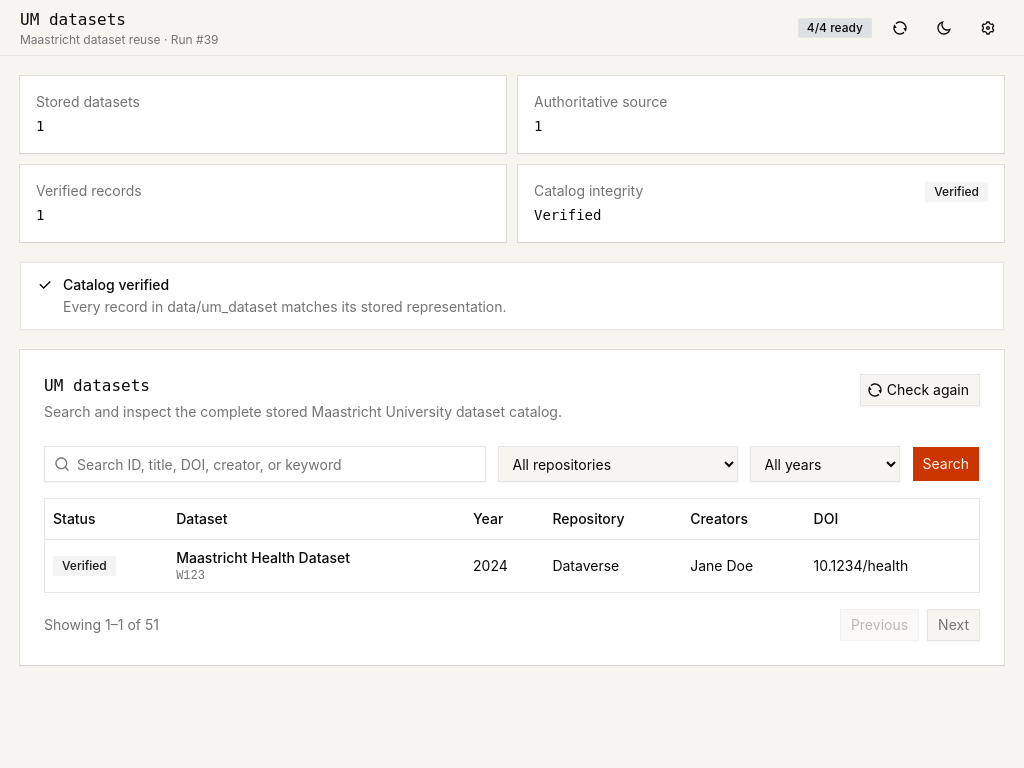
App routed workflow › browses the verified UM dataset catalog and opens raw details
Expected: the text "Catalog verified" is shown, [63,276,169,293]
Expected: the text "Showing 1–1 of 51" is shown, [44,614,159,634]
What coordinates should you click on to do the following:
click the button "Maastricht Health Dataset W123"
I would click on:
 (317, 566)
Its box is [176,548,457,584].
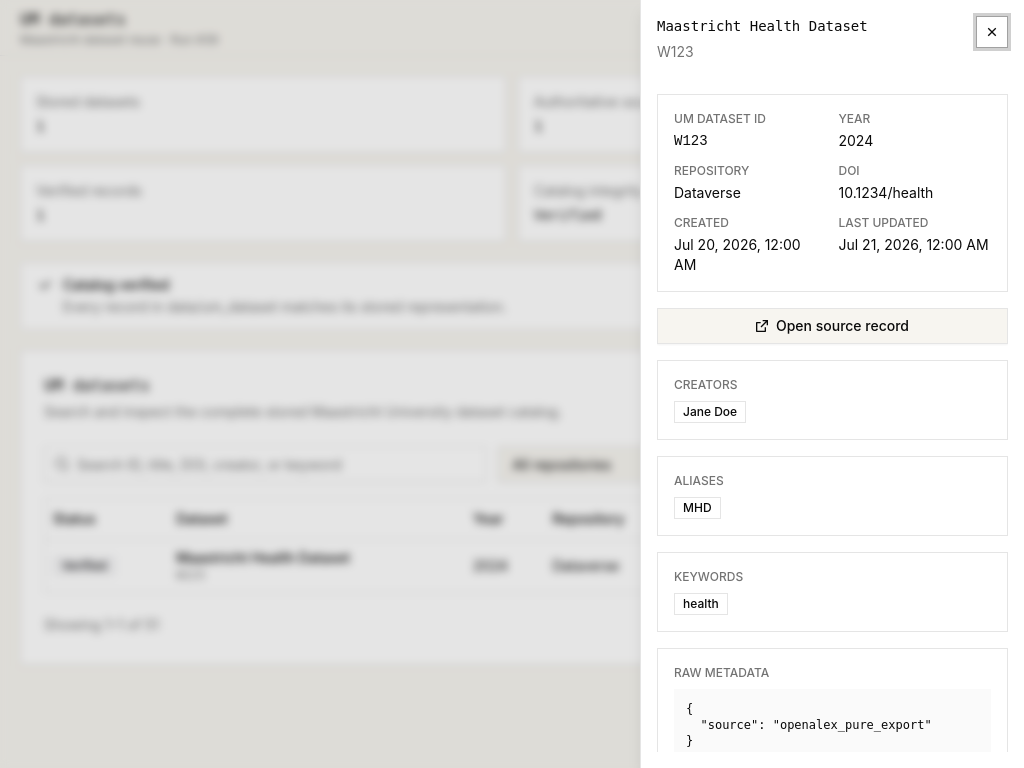
Expected: the text "Raw metadata" is shown, [674,665,769,680]
Expected: the text "{ \"source\": \"openalex_pure_export\" }" is shown, [674,689,991,752]
